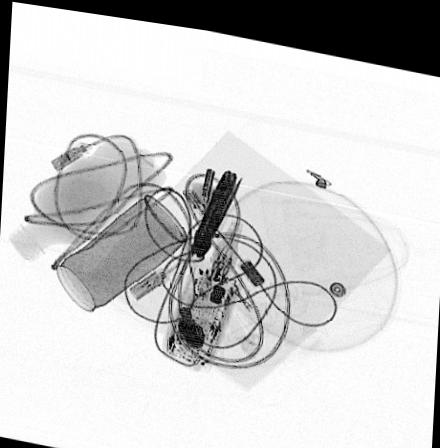Knife: (188, 159, 243, 252)
